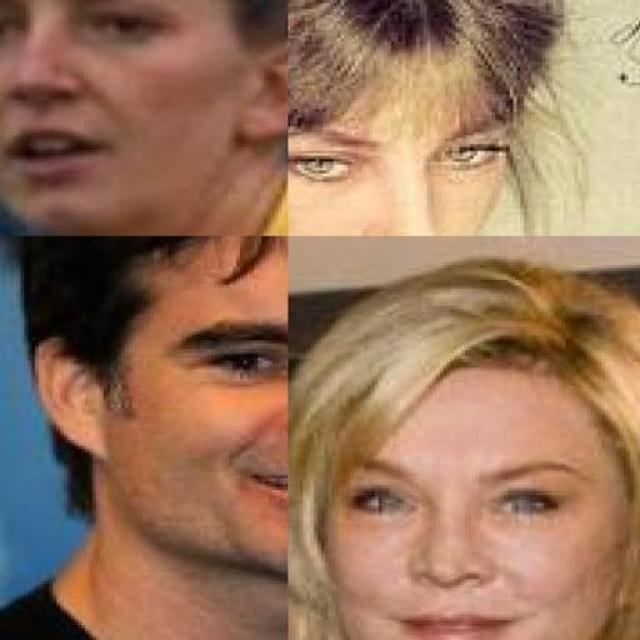bareface: (318, 286, 617, 640)
